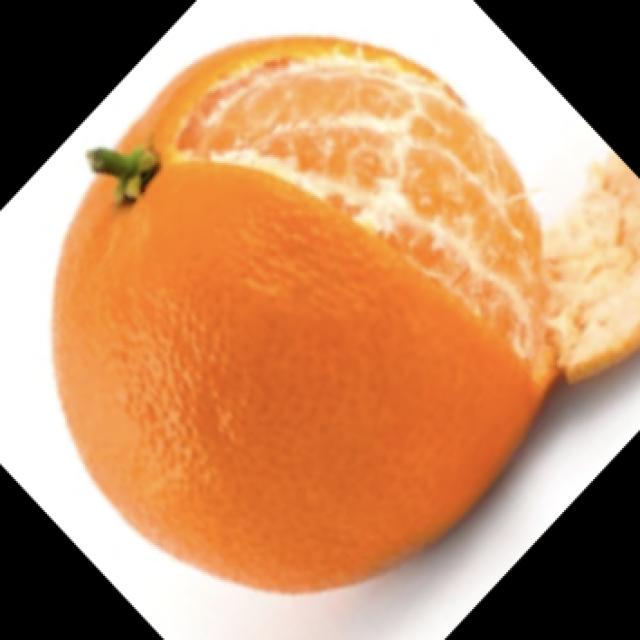fresh: (44, 18, 574, 621)
